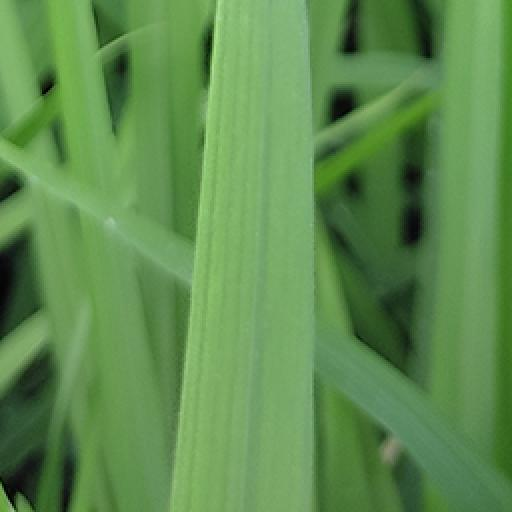Healthy Leaf: (170, 2, 330, 512)
